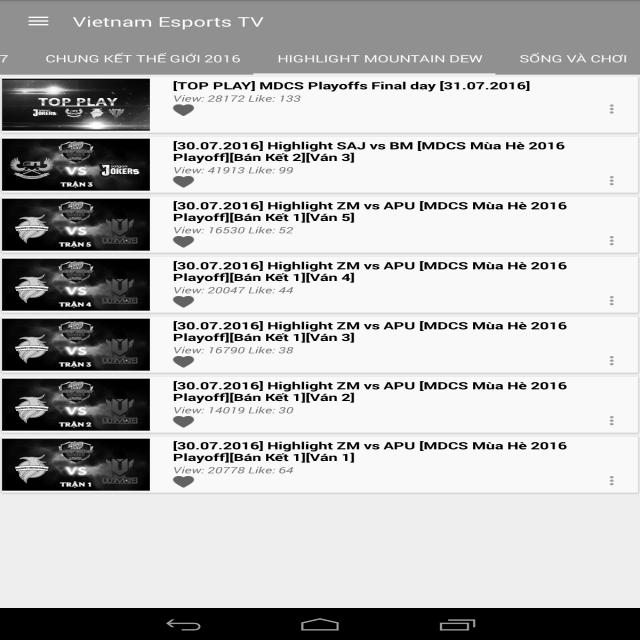ImageButton: (9, 3, 68, 40)
ImageView: (2, 318, 173, 371), (2, 378, 173, 431), (2, 438, 173, 491), (2, 78, 173, 130), (2, 138, 173, 190), (2, 198, 173, 250), (2, 258, 173, 310), (600, 99, 622, 119), (600, 170, 622, 190), (600, 230, 622, 250), (600, 290, 622, 310), (600, 350, 622, 370), (600, 410, 622, 430), (600, 470, 622, 490), (173, 104, 194, 118), (173, 176, 194, 189), (173, 236, 194, 249), (173, 296, 194, 309), (173, 356, 194, 369), (173, 416, 194, 429), (173, 476, 194, 489)
TextView: (173, 139, 616, 164), (173, 199, 616, 224), (173, 259, 616, 284), (173, 319, 616, 344), (173, 379, 616, 404), (173, 439, 616, 464), (172, 79, 530, 92), (73, 12, 264, 30), (266, 52, 483, 65), (34, 52, 240, 65), (508, 52, 627, 65), (173, 92, 301, 104), (173, 164, 293, 176), (173, 224, 293, 236), (173, 284, 293, 296), (173, 344, 293, 356), (173, 404, 293, 416), (173, 464, 293, 476), (0, 52, 8, 65)
